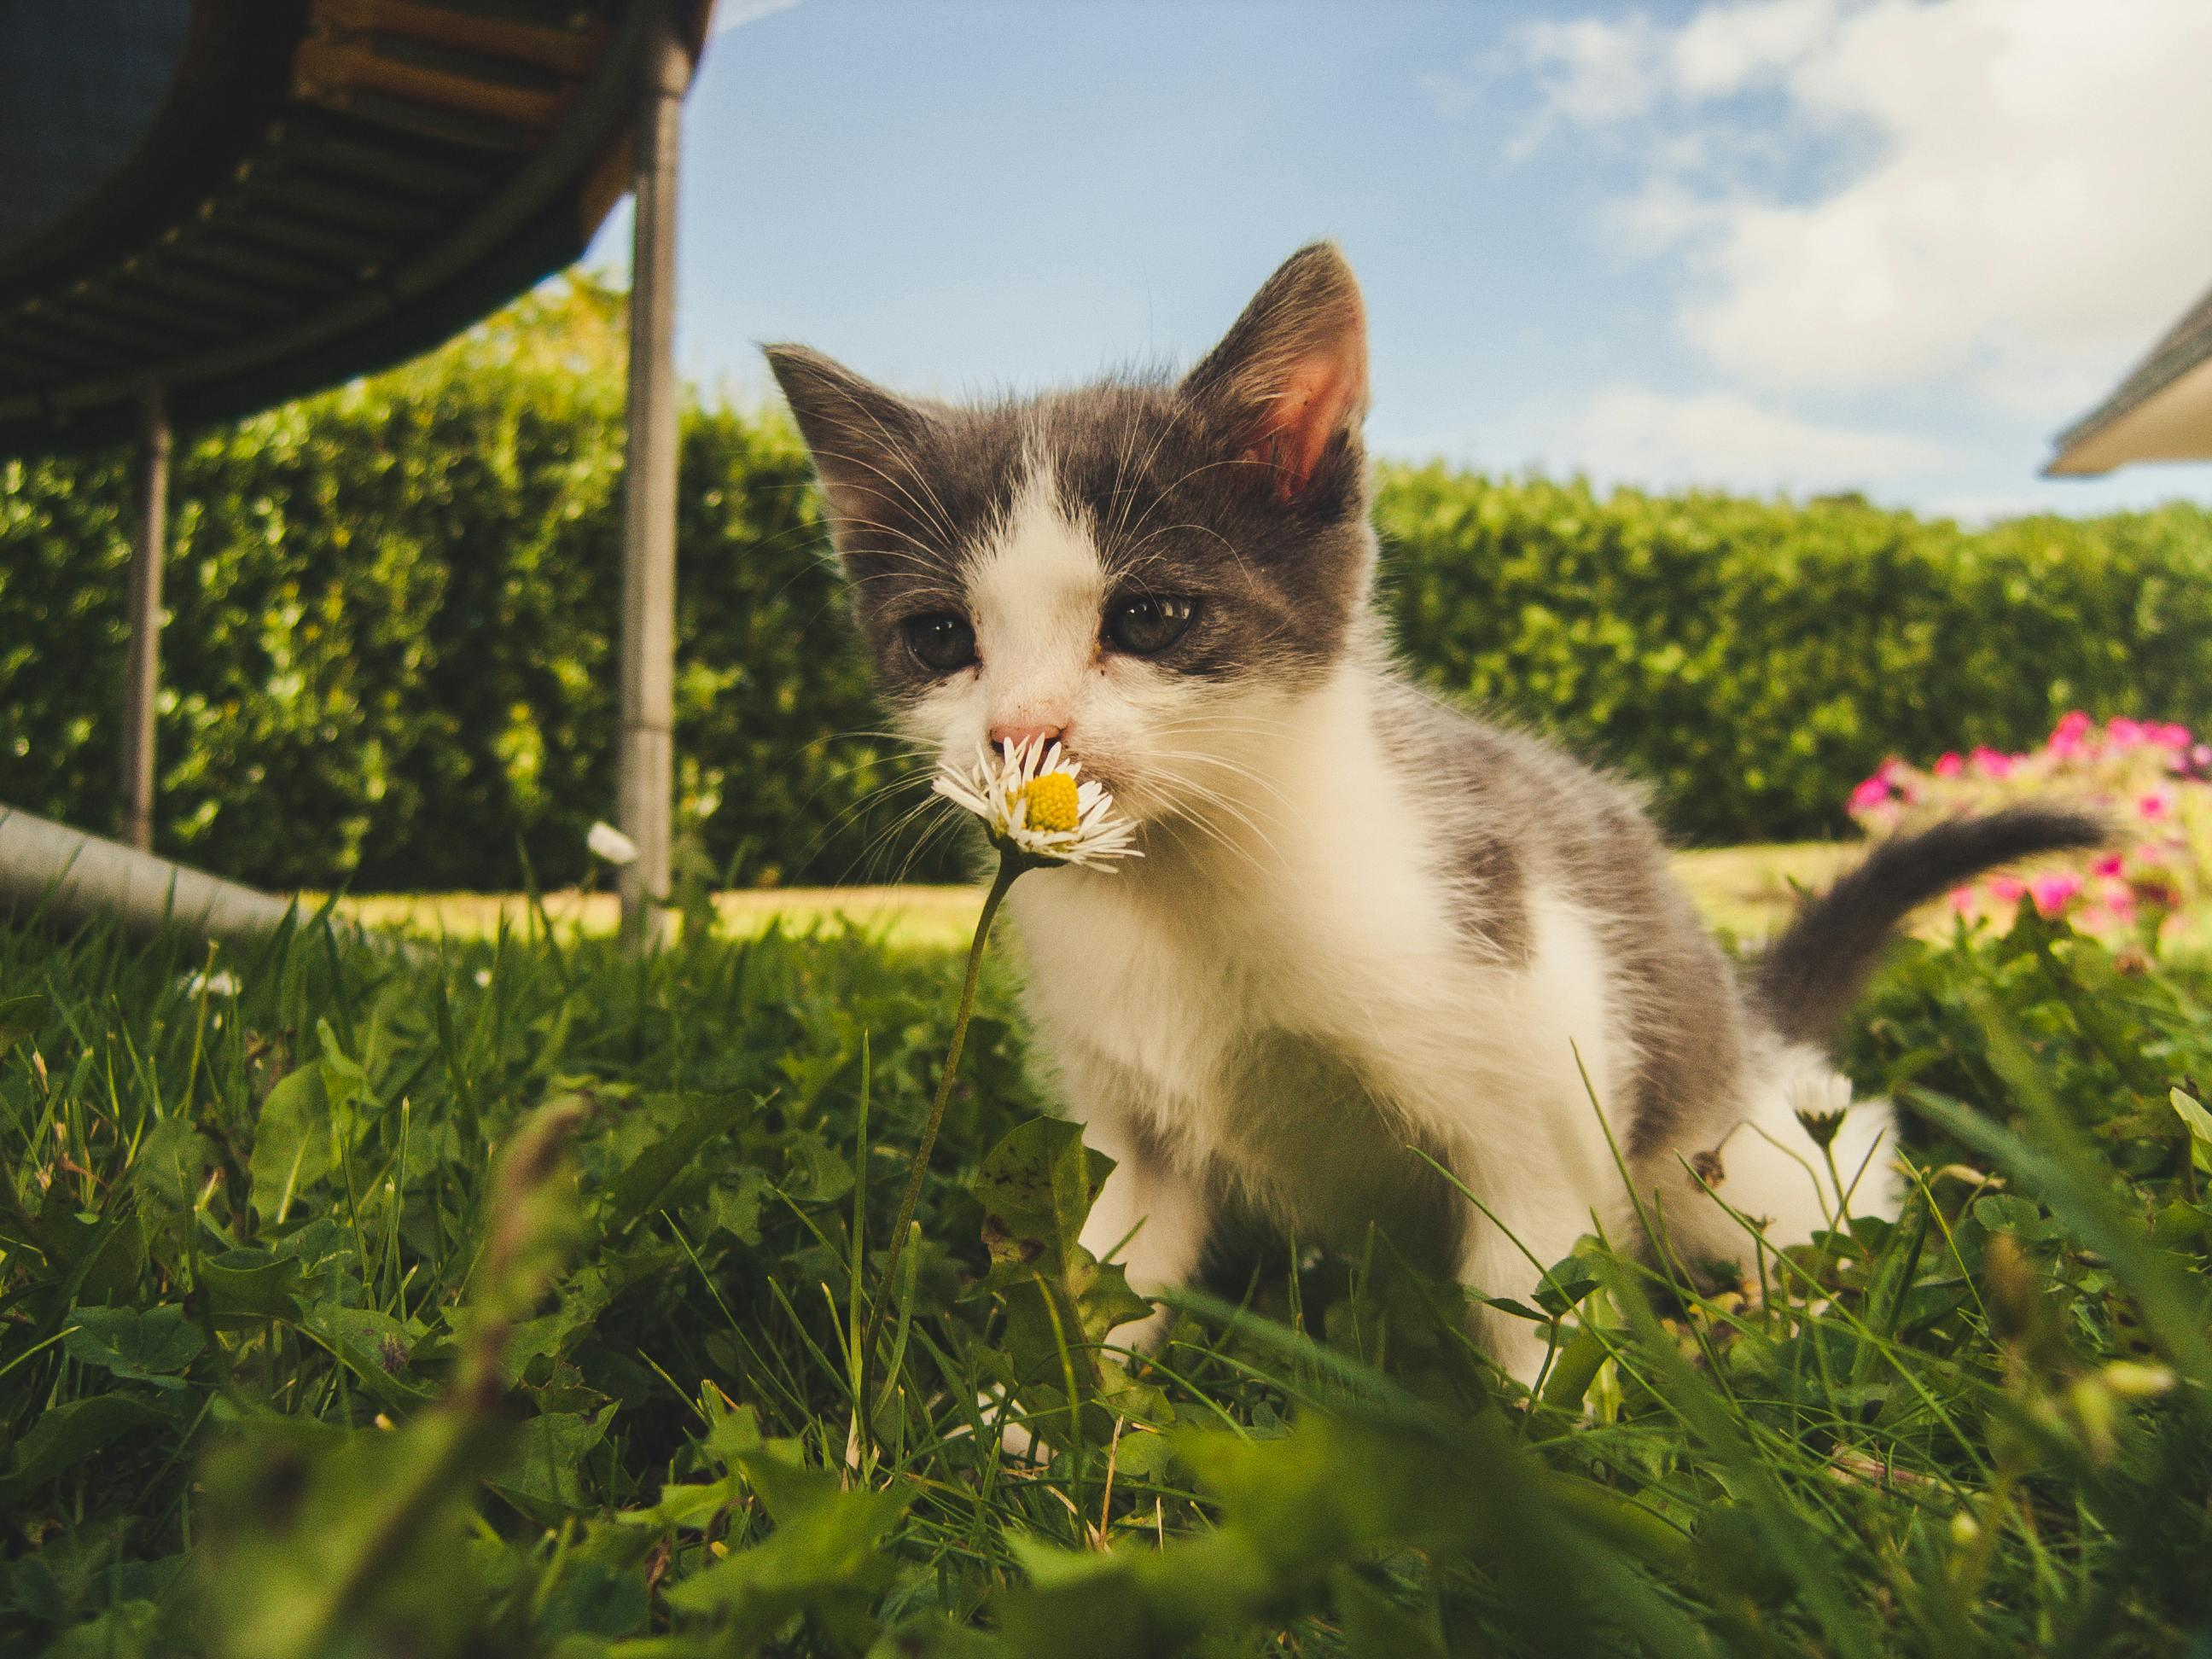kedo: (765, 242, 1905, 1448)
